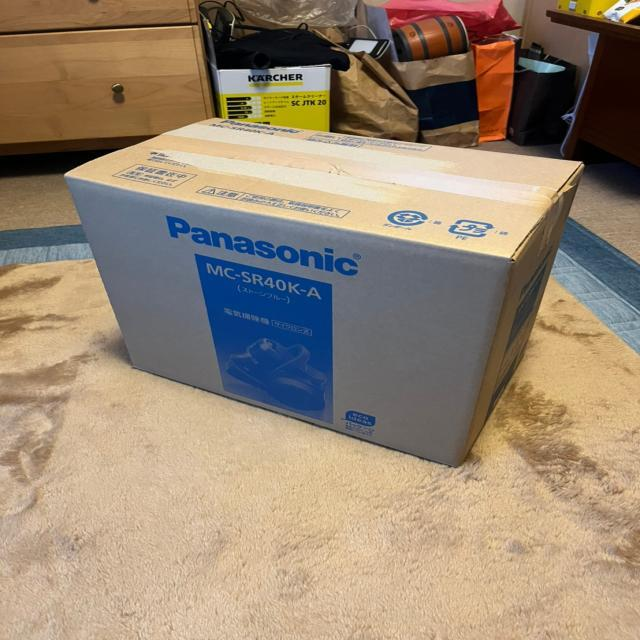-: (60, 111, 593, 472)
